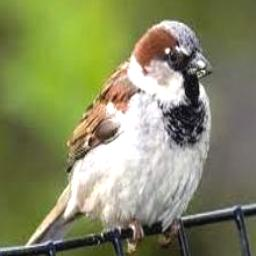Sparrow: (13, 20, 212, 256)
